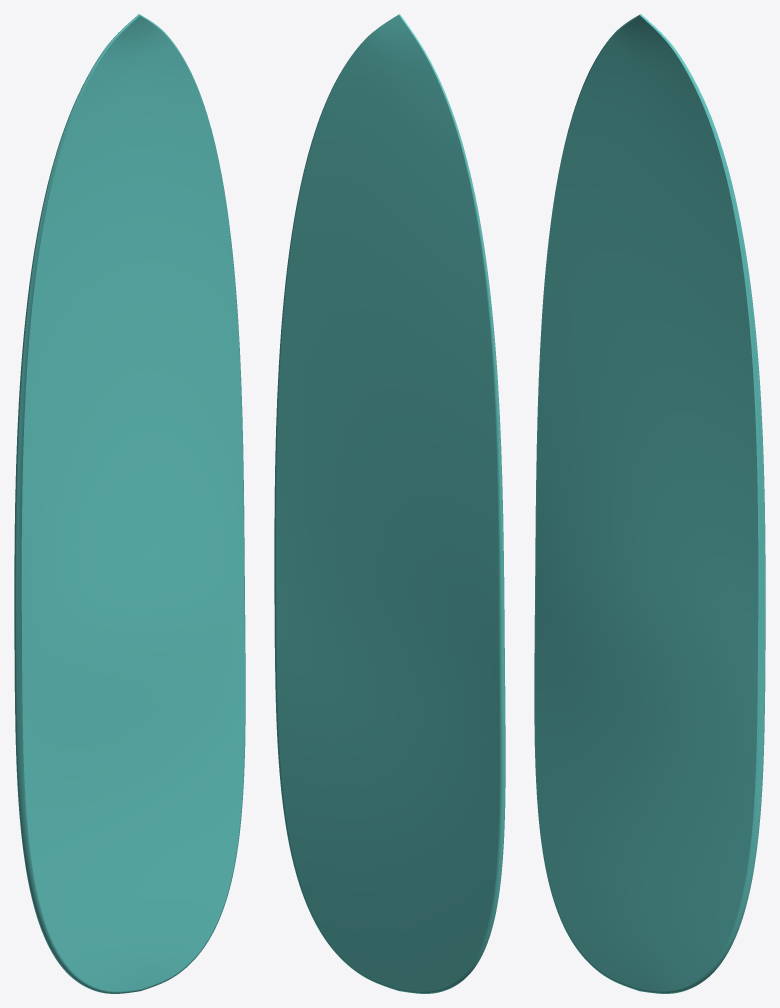
File: SurfBoard.gltf
3 renders of one model, left to right at view 1: azimuth 30°, elevation 25°; view 2: azimuth 150°, elevation 25°; view 3: azimuth 330°, elevation 25°, orthographic.
Visible parts, largest first — view 1: mesh0_meshnode_0, mesh1_meshnode_1, mesh2_meshnode_2; view 2: mesh3_meshnode_3, mesh1_meshnode_1, mesh2_meshnode_2; view 3: mesh0_meshnode_0, mesh2_meshnode_2, mesh1_meshnode_1.
Boxes of the visible parts, x1,y1,x2,y2 form: mesh0_meshnode_0: (21,16,244,991); mesh1_meshnode_1: (14,14,141,993); mesh2_meshnode_2: (140,14,245,990); mesh3_meshnode_3: (276,15,499,991); mesh1_meshnode_1: (397,14,505,993); mesh2_meshnode_2: (274,14,398,990); mesh0_meshnode_0: (535,16,758,991); mesh2_meshnode_2: (638,14,765,993); mesh1_meshnode_1: (534,14,639,990).
Size of the model in its own units: 0.6179 by 2.51 by 0.0662.
